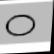no answer: (1, 10, 44, 40)
